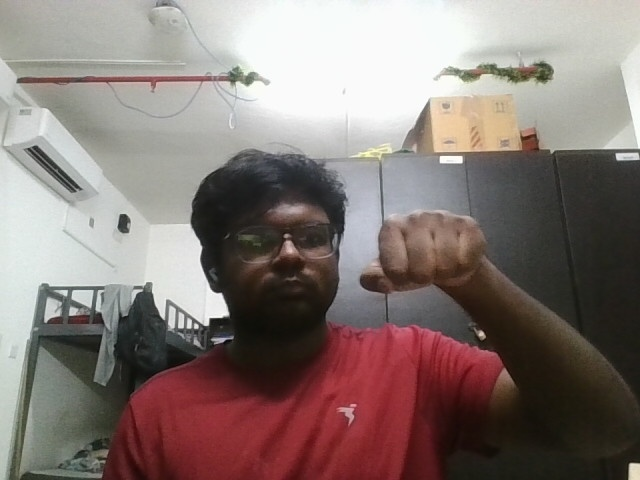Yes: (352, 203, 506, 309)
